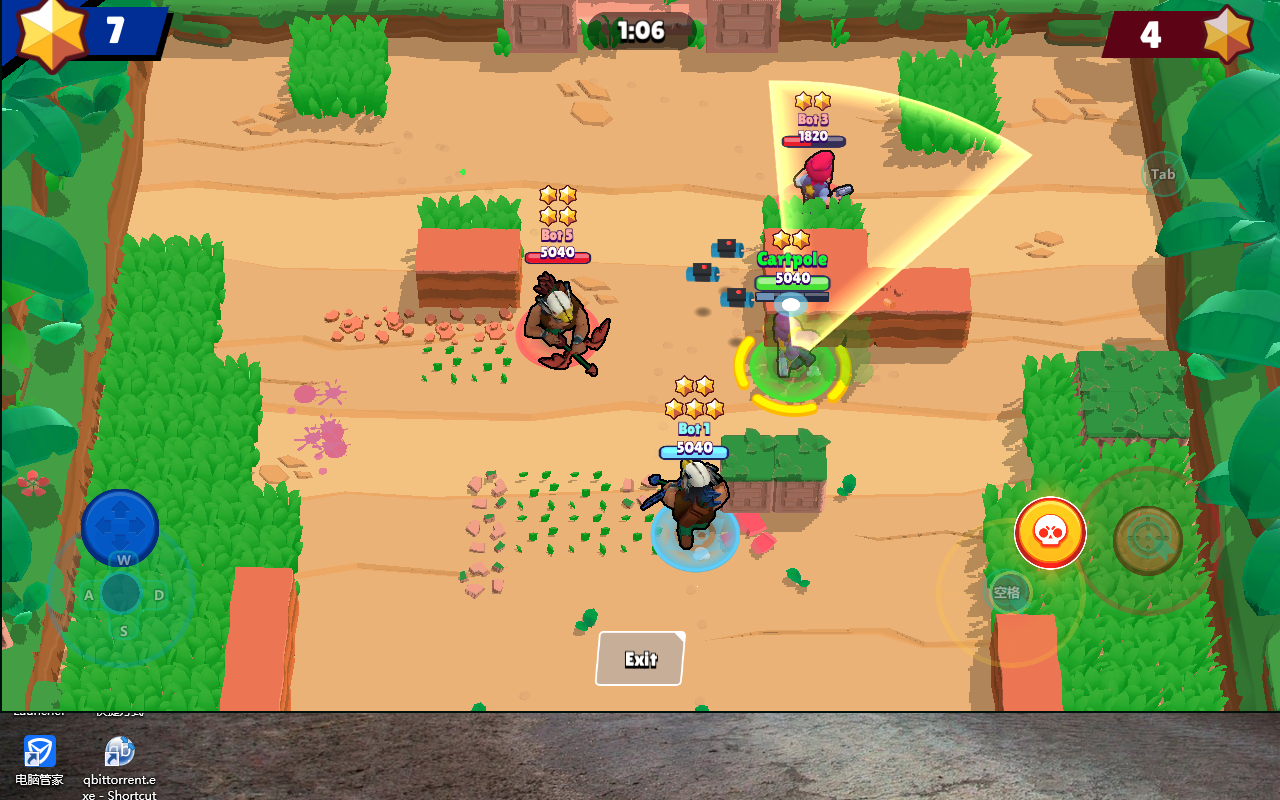current_player: (748, 338, 837, 402)
